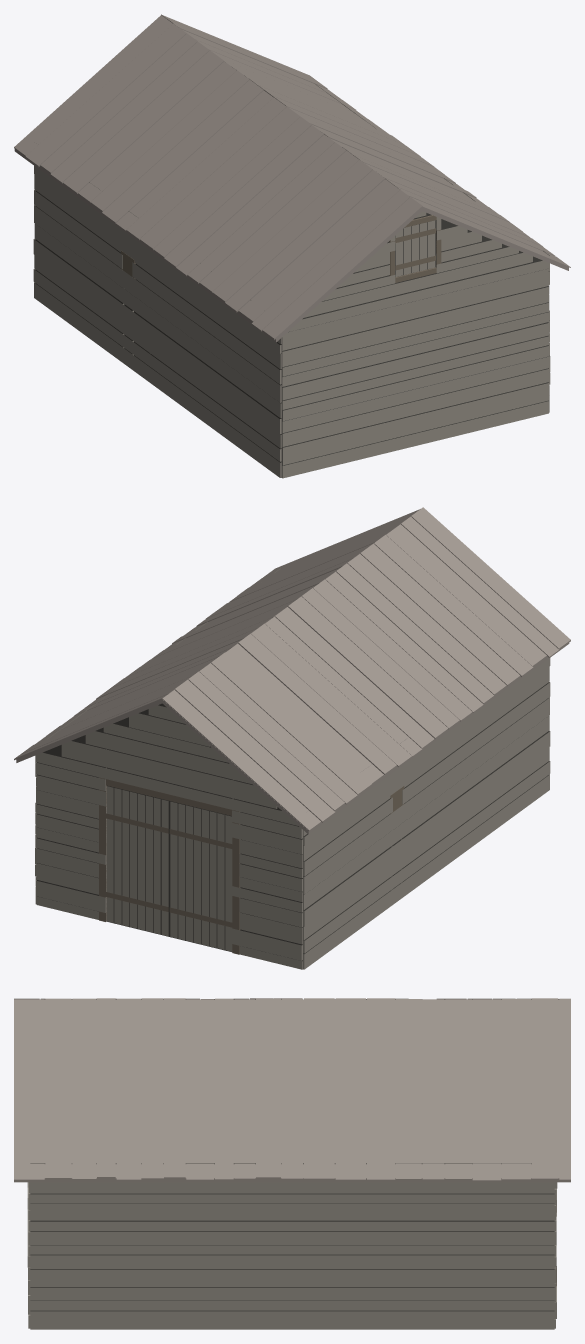
The model's file is recon_1835_west_009__inferred_1835.glb.
3 renders of one model, top to bottom at view 1: azimuth 30°, elevation 25°; view 2: azimuth 150°, elevation 25°; view 3: azimuth 270°, elevation 25°, orthographic. The views are drawn at different scales.
Visible parts, largest first — view 1: recon_1835_west_009__inferred_1835; view 2: recon_1835_west_009__inferred_1835; view 3: recon_1835_west_009__inferred_1835.
Part boxes in pixels (x1,y1,x2,y2): recon_1835_west_009__inferred_1835: (14, 14, 570, 478); recon_1835_west_009__inferred_1835: (14, 507, 570, 969); recon_1835_west_009__inferred_1835: (14, 998, 570, 1329).
Bounding box in the file's own units: 6.81 × 5.36 × 10.36.
